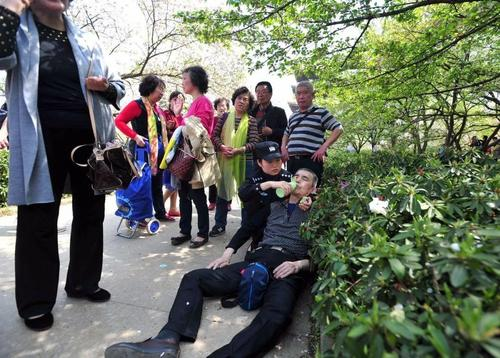fall: (74, 146, 330, 358)
